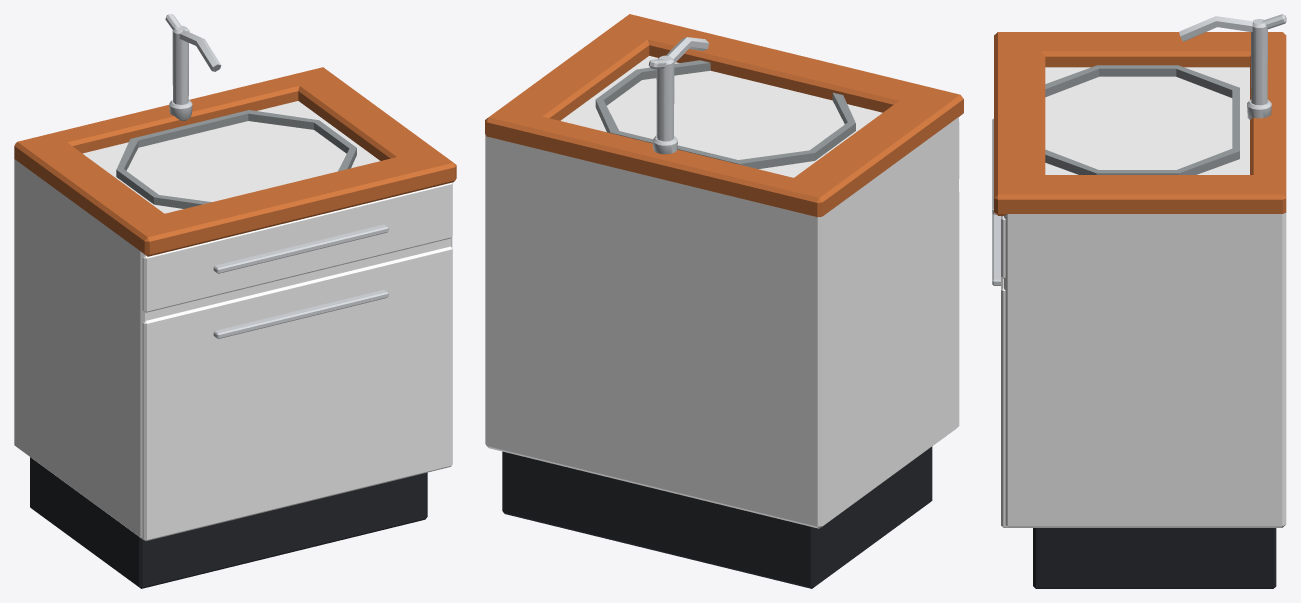
File: kitchen-base-sink-800.glb
The picture shows the model from 3 angles, left to right: view 1: azimuth 30°, elevation 25°; view 2: azimuth 150°, elevation 25°; view 3: azimuth 270°, elevation 25°; orthographic projection. The views are drawn at different scales.
Parts seen in each view (by area): view 1: kitchen-base-sink-800.tint, kitchen-base-sink-800.accent, kitchen-base-sink-800.graphite, kitchen-base-sink-800.chrome, kitchen-base-sink-800.metal; view 2: kitchen-base-sink-800.tint, kitchen-base-sink-800.accent, kitchen-base-sink-800.graphite, kitchen-base-sink-800.metal, kitchen-base-sink-800.chrome; view 3: kitchen-base-sink-800.tint, kitchen-base-sink-800.accent, kitchen-base-sink-800.graphite, kitchen-base-sink-800.metal, kitchen-base-sink-800.chrome.
Part boxes in pixels (x1,y1,x2,y2): kitchen-base-sink-800.tint: (14,101,452,540); kitchen-base-sink-800.accent: (14,67,456,256); kitchen-base-sink-800.graphite: (30,457,427,588); kitchen-base-sink-800.chrome: (165,14,388,338); kitchen-base-sink-800.metal: (116,110,356,208); kitchen-base-sink-800.tint: (485,56,959,528); kitchen-base-sink-800.accent: (485,14,963,217); kitchen-base-sink-800.graphite: (502,446,932,588); kitchen-base-sink-800.metal: (595,60,855,169); kitchen-base-sink-800.chrome: (648,37,709,154); kitchen-base-sink-800.tint: (1001,67,1286,527); kitchen-base-sink-800.accent: (994,32,1286,215); kitchen-base-sink-800.graphite: (1033,528,1276,588); kitchen-base-sink-800.metal: (1045,65,1239,174); kitchen-base-sink-800.chrome: (992,14,1286,285).
Bounding box in the file's own units: 0.8 × 1.12 × 0.6.
